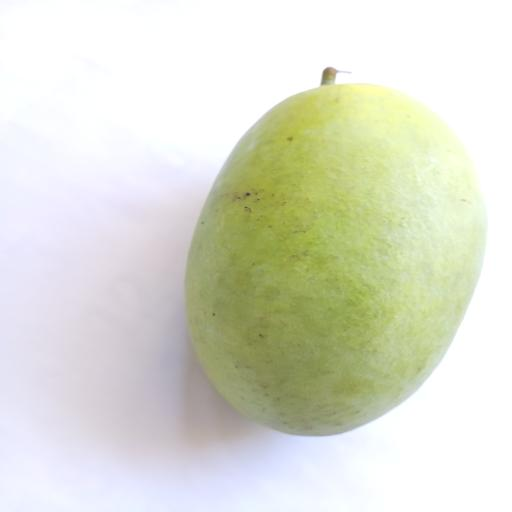mango-unripe: (165, 54, 499, 449)
